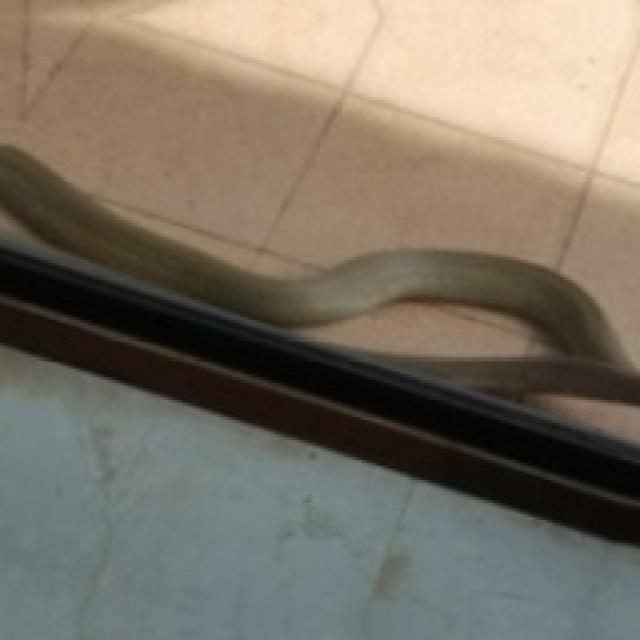king cobra: (0, 146, 637, 400)
